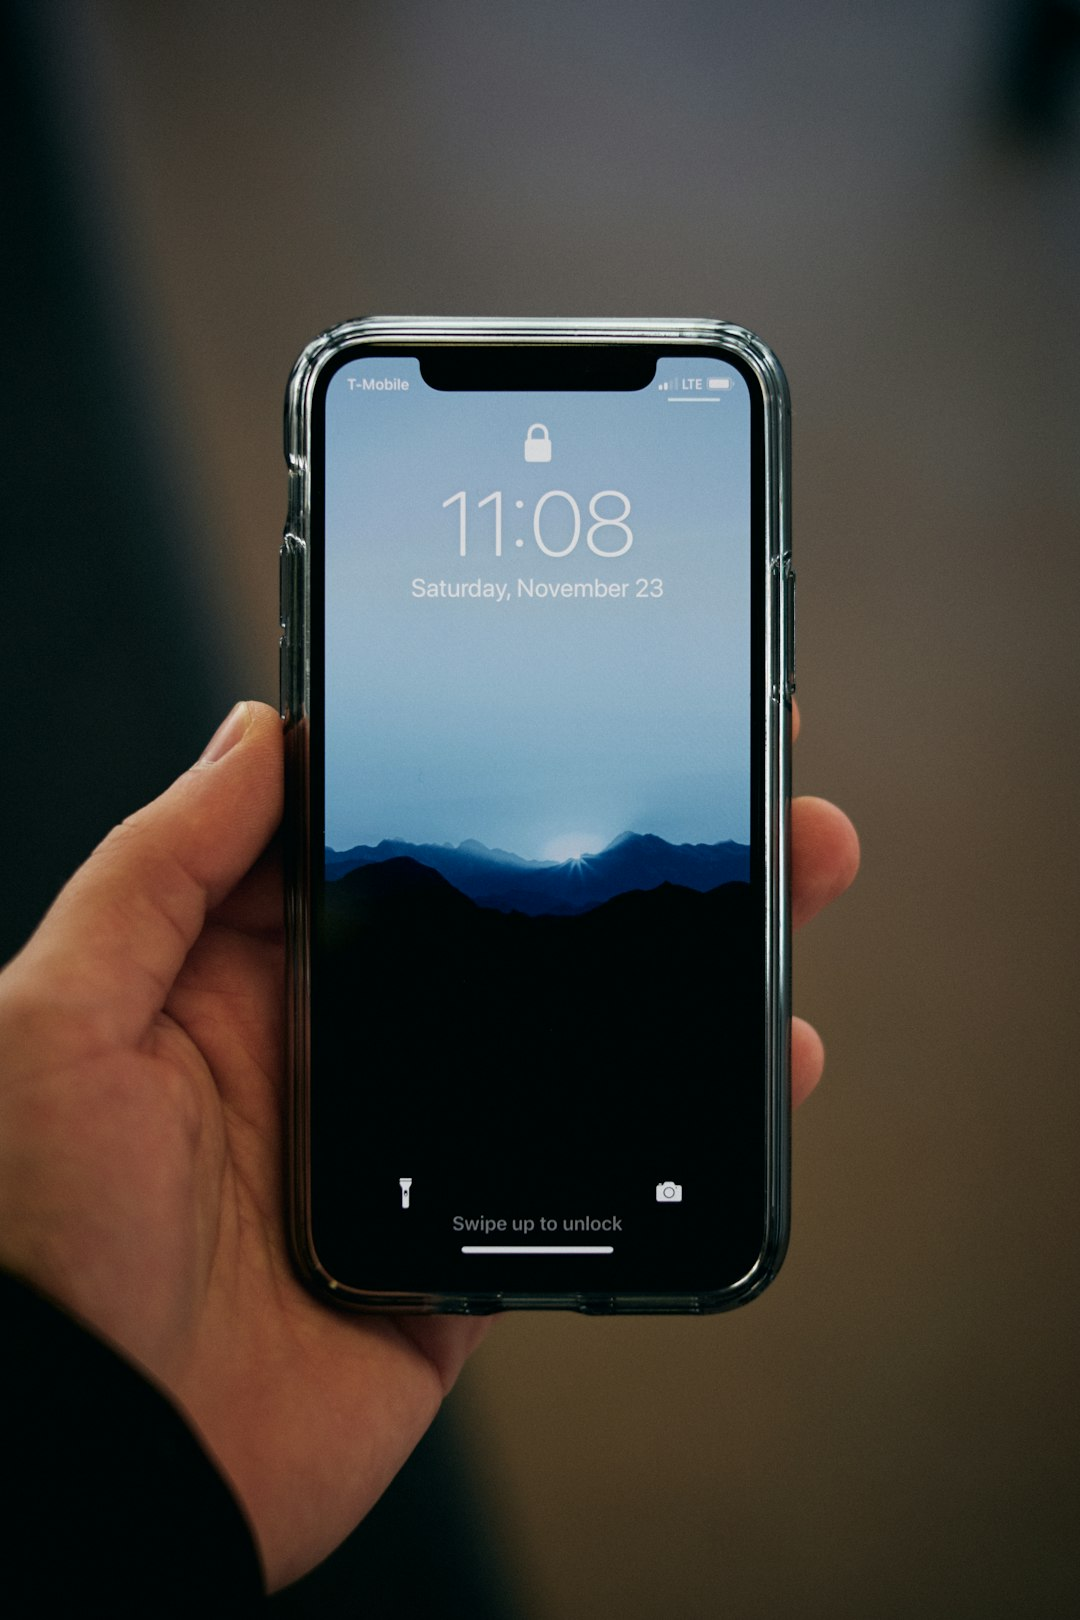phone: (281, 307, 790, 1322)
